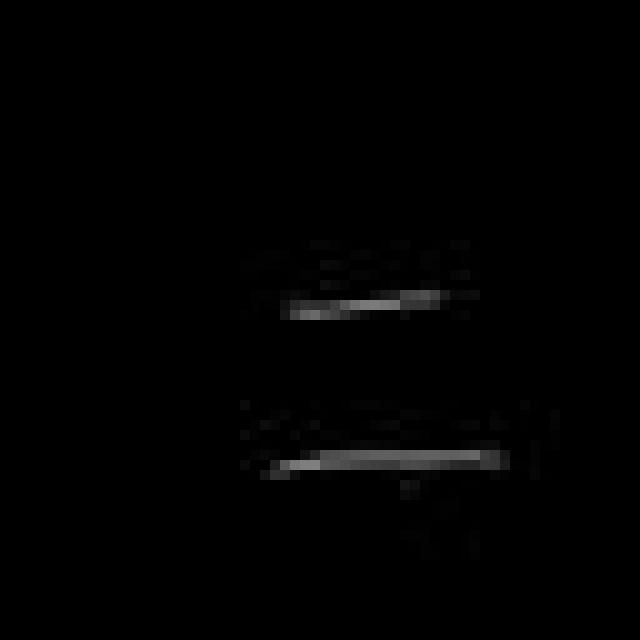2 -two-: (257, 275, 510, 497)
